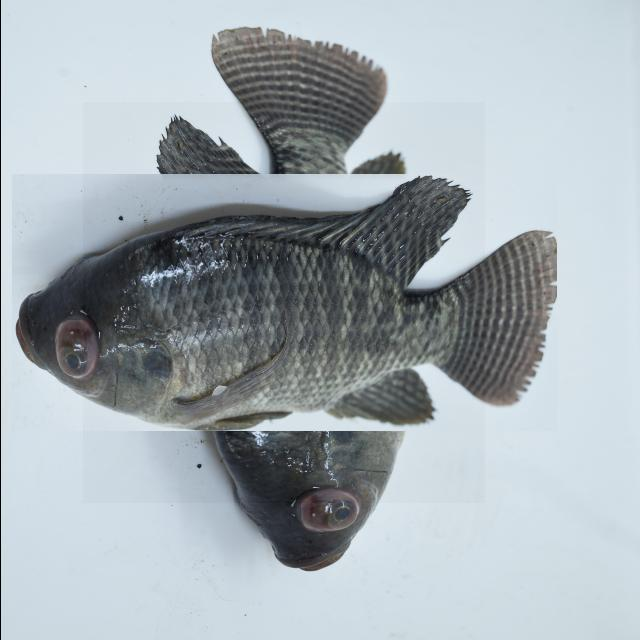streptococcus Disease: (82, 102, 484, 503)
